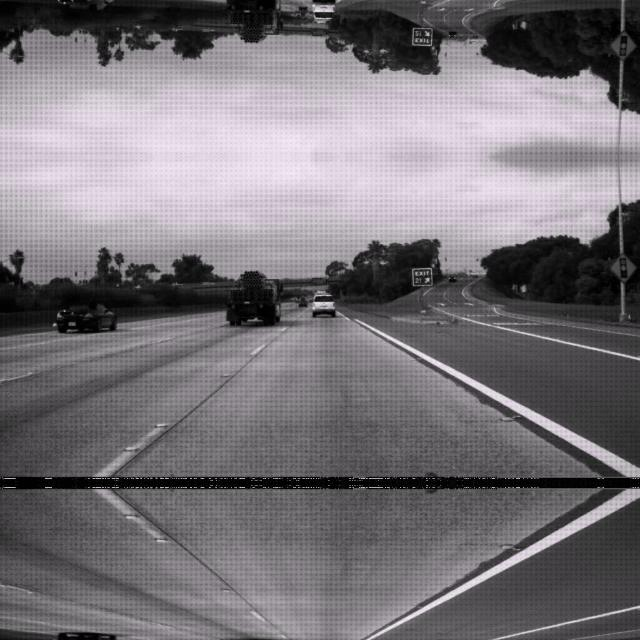signalAhead: (610, 250, 636, 282), (610, 30, 636, 61)
